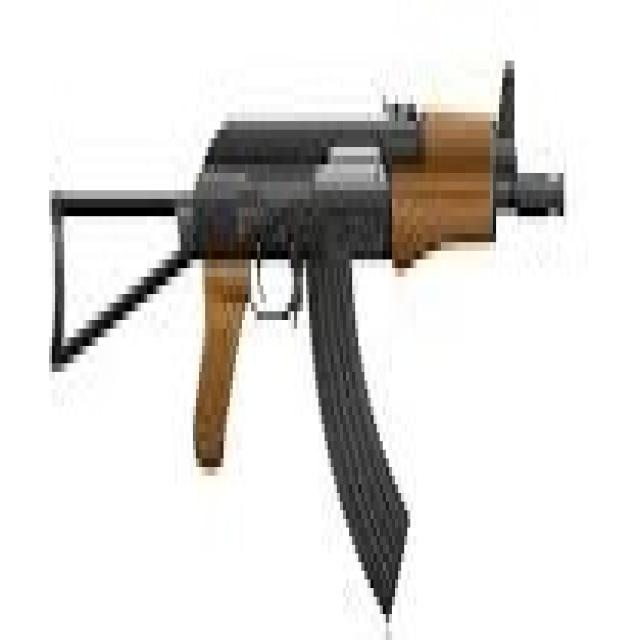rifle: (40, 49, 572, 640)
